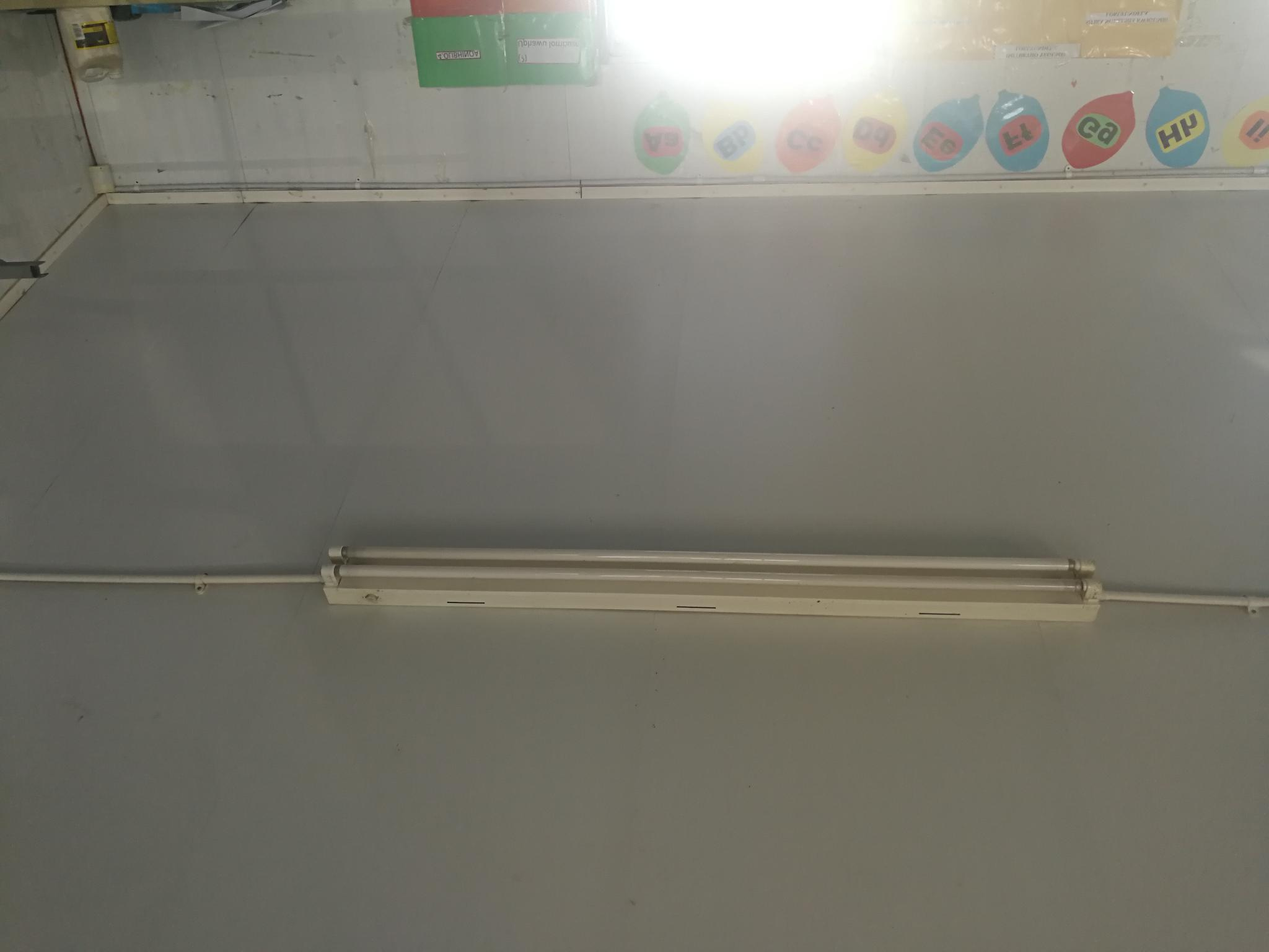light: (320, 544, 1102, 624)
